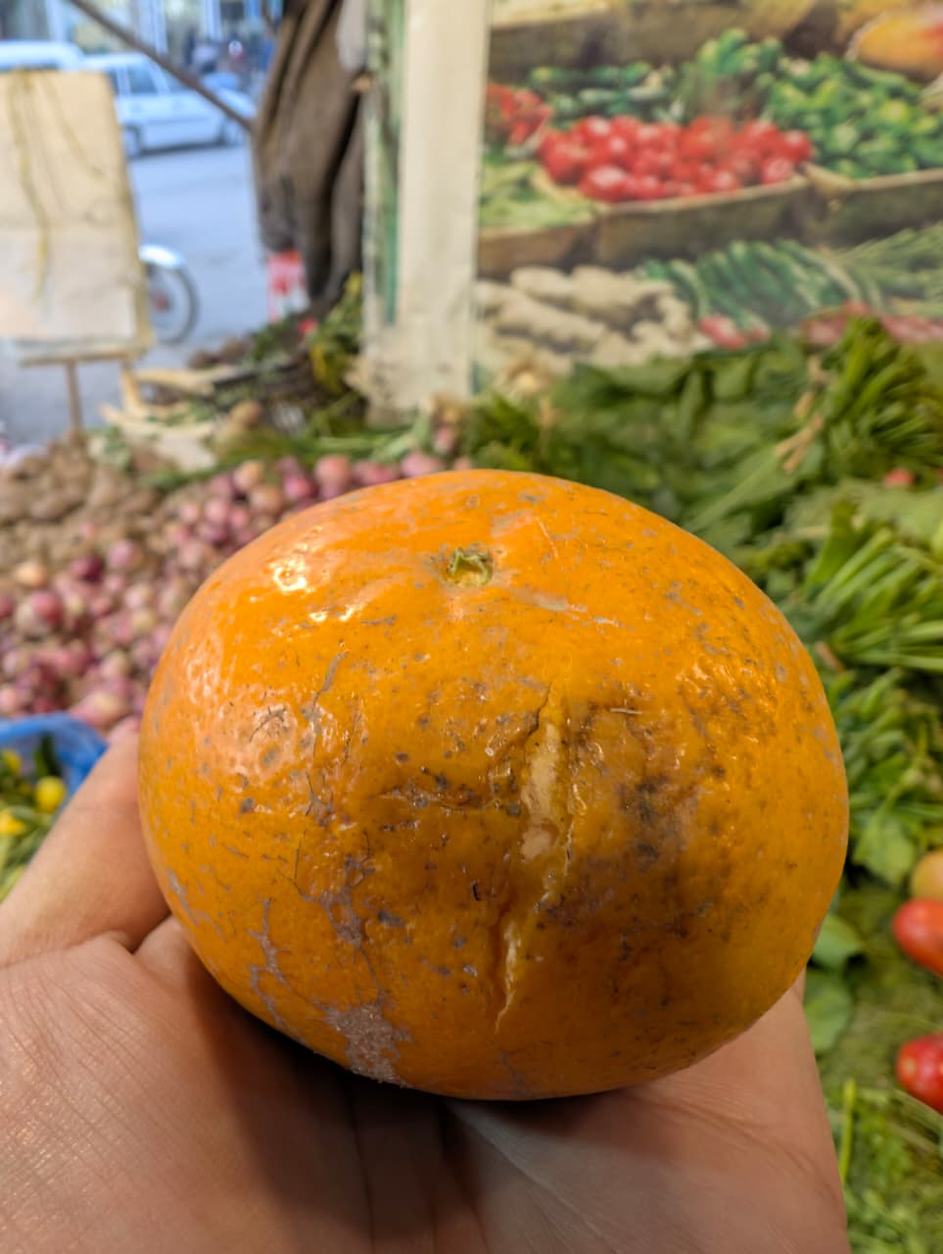orange: (97, 101, 866, 1156)
